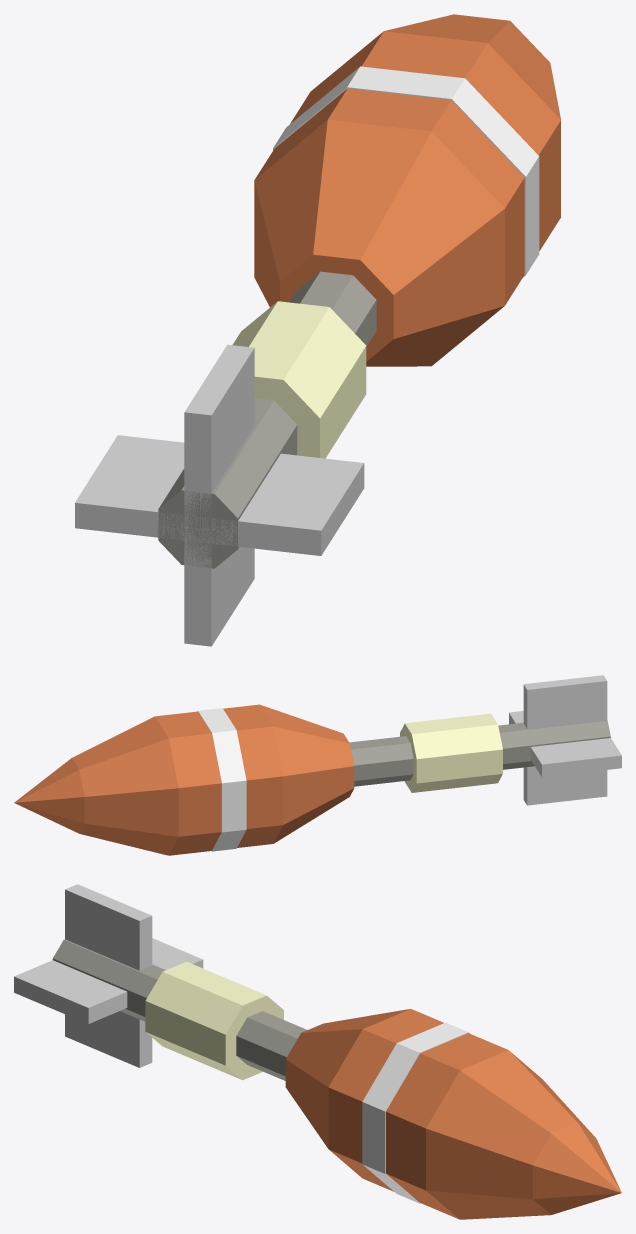
File: ce_ammo_mortar_inc_a.obj
3 renders of one model, top to bottom at view 1: azimuth 30°, elevation 25°; view 2: azimuth 150°, elevation 25°; view 3: azimuth 270°, elevation 25°, orthographic. The views are drawn at different scales.
Parts seen in each view (by area): view 1: ce_ammo_mortar_inc_a_2, ce_ammo_mortar_inc_a_8, ce_ammo_mortar_inc_a_9, ce_ammo_mortar_inc_a_1, ce_ammo_mortar_inc_a_0, ce_ammo_mortar_inc_a_5, ce_ammo_mortar_inc_a_3, ce_ammo_mortar_inc_a_4, ce_ammo_mortar_inc_a_6; view 2: ce_ammo_mortar_inc_a_6, ce_ammo_mortar_inc_a_2, ce_ammo_mortar_inc_a_1, ce_ammo_mortar_inc_a_9, ce_ammo_mortar_inc_a_5, ce_ammo_mortar_inc_a_0, ce_ammo_mortar_inc_a_3, ce_ammo_mortar_inc_a_4, ce_ammo_mortar_inc_a_8, ce_ammo_mortar_inc_a_7; view 3: ce_ammo_mortar_inc_a_6, ce_ammo_mortar_inc_a_1, ce_ammo_mortar_inc_a_9, ce_ammo_mortar_inc_a_5, ce_ammo_mortar_inc_a_3, ce_ammo_mortar_inc_a_0, ce_ammo_mortar_inc_a_7, ce_ammo_mortar_inc_a_2, ce_ammo_mortar_inc_a_8, ce_ammo_mortar_inc_a_4.
Part boxes in pixels (left/top/right/bottom): ce_ammo_mortar_inc_a_2: left=254, top=119, right=504, bottom=366; ce_ammo_mortar_inc_a_8: left=75, top=435, right=364, bottom=555; ce_ammo_mortar_inc_a_9: left=184, top=344, right=254, bottom=646; ce_ammo_mortar_inc_a_1: left=232, top=301, right=366, bottom=458; ce_ammo_mortar_inc_a_0: left=158, top=271, right=376, bottom=568; ce_ammo_mortar_inc_a_5: left=290, top=31, right=560, bottom=250; ce_ammo_mortar_inc_a_3: left=255, top=88, right=524, bottom=305; ce_ammo_mortar_inc_a_4: left=273, top=66, right=539, bottom=277; ce_ammo_mortar_inc_a_6: left=384, top=14, right=560, bottom=119; ce_ammo_mortar_inc_a_6: left=72, top=716, right=178, bottom=855; ce_ammo_mortar_inc_a_2: left=260, top=704, right=354, bottom=843; ce_ammo_mortar_inc_a_1: left=400, top=713, right=502, bottom=792; ce_ammo_mortar_inc_a_9: left=523, top=675, right=607, bottom=805; ce_ammo_mortar_inc_a_5: left=155, top=711, right=221, bottom=855; ce_ammo_mortar_inc_a_0: left=349, top=720, right=610, bottom=786; ce_ammo_mortar_inc_a_3: left=223, top=704, right=283, bottom=847; ce_ammo_mortar_inc_a_4: left=197, top=708, right=246, bottom=851; ce_ammo_mortar_inc_a_8: left=509, top=711, right=621, bottom=777; ce_ammo_mortar_inc_a_7: left=14, top=758, right=84, bottom=833; ce_ammo_mortar_inc_a_6: left=426, top=1050, right=595, bottom=1219; ce_ammo_mortar_inc_a_1: left=145, top=961, right=283, bottom=1080; ce_ammo_mortar_inc_a_9: left=65, top=884, right=152, bottom=1067; ce_ammo_mortar_inc_a_5: left=386, top=1033, right=507, bottom=1219; ce_ammo_mortar_inc_a_3: left=328, top=1009, right=443, bottom=1191; ce_ammo_mortar_inc_a_0: left=52, top=939, right=307, bottom=1080; ce_ammo_mortar_inc_a_7: left=533, top=1122, right=621, bottom=1214; ce_ammo_mortar_inc_a_2: left=285, top=1009, right=409, bottom=1148; ce_ammo_mortar_inc_a_8: left=14, top=938, right=203, bottom=1023; ce_ammo_mortar_inc_a_4: left=362, top=1022, right=469, bottom=1203.
Size of the model in its own units: 0.7495 by 0.2052 by 0.7495.
